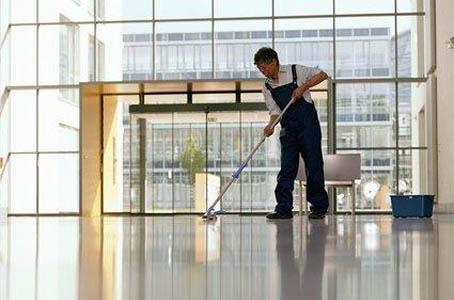person: (254, 47, 332, 222)
